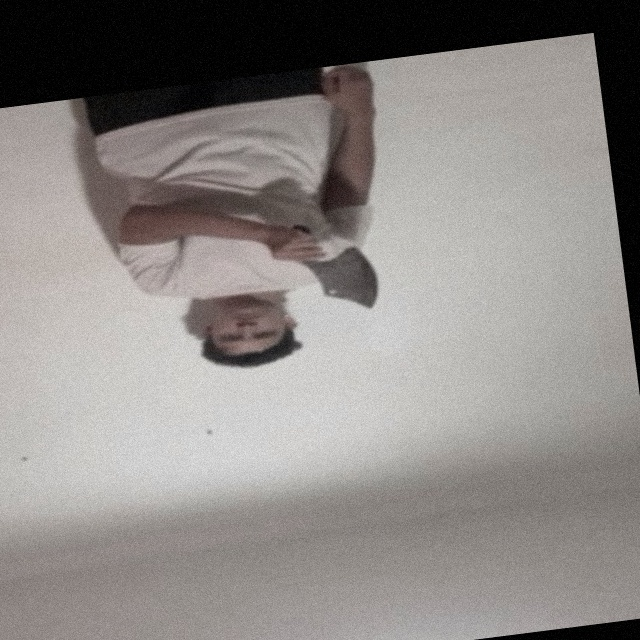Sharp-Object: (307, 249, 383, 318)
